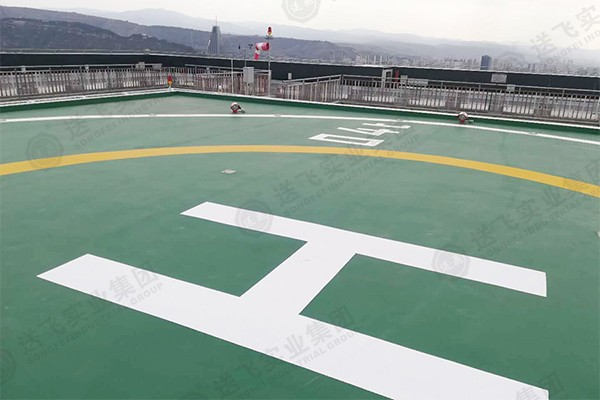H: (35, 202, 548, 400)
